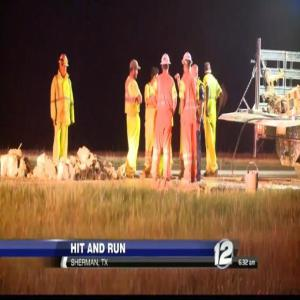none: (130, 59, 140, 80), (203, 59, 213, 78), (150, 68, 160, 85)
red: (182, 52, 193, 74), (161, 53, 171, 74)
yellow: (59, 54, 71, 78)
